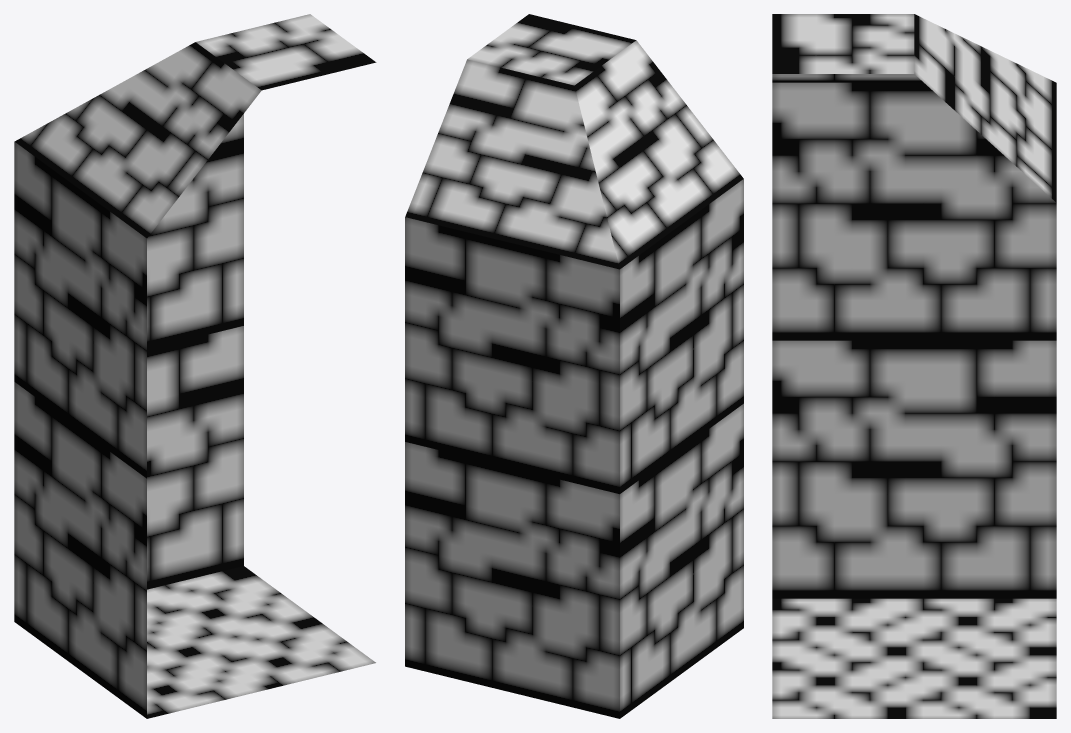
Rendered from bricks_bricks_wall-inner-corner.fbx.
3 renders of one model, left to right at view 1: azimuth 30°, elevation 25°; view 2: azimuth 150°, elevation 25°; view 3: azimuth 270°, elevation 25°, orthographic. The views are drawn at different scales.
Parts seen in each view (by area): view 1: bricks_bricks_wall-inner-corner; view 2: bricks_bricks_wall-inner-corner; view 3: bricks_bricks_wall-inner-corner.
Boxes of the visible parts, box(x1,y1,x2,y2) form: bricks_bricks_wall-inner-corner: box(14, 14, 376, 718); bricks_bricks_wall-inner-corner: box(405, 14, 743, 718); bricks_bricks_wall-inner-corner: box(772, 14, 1056, 718).
Bounding box in the file's own units: 100 × 100 × 250.
